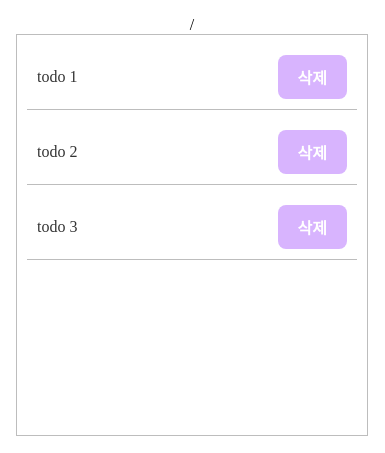
<TodoList /> › 목록 클릭시 페이지 이동 체크
Expected: the text "/" is shown, top-left (190, 16), bottom-right (194, 34)
Click the link "todo 2" at coordinates (57, 152), box top-left (37, 143), bottom-right (78, 160)
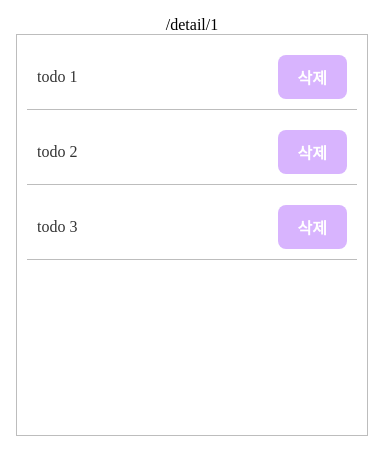
Expected: the text "/" reads "/detail/1", top-left (166, 16), bottom-right (218, 33)
